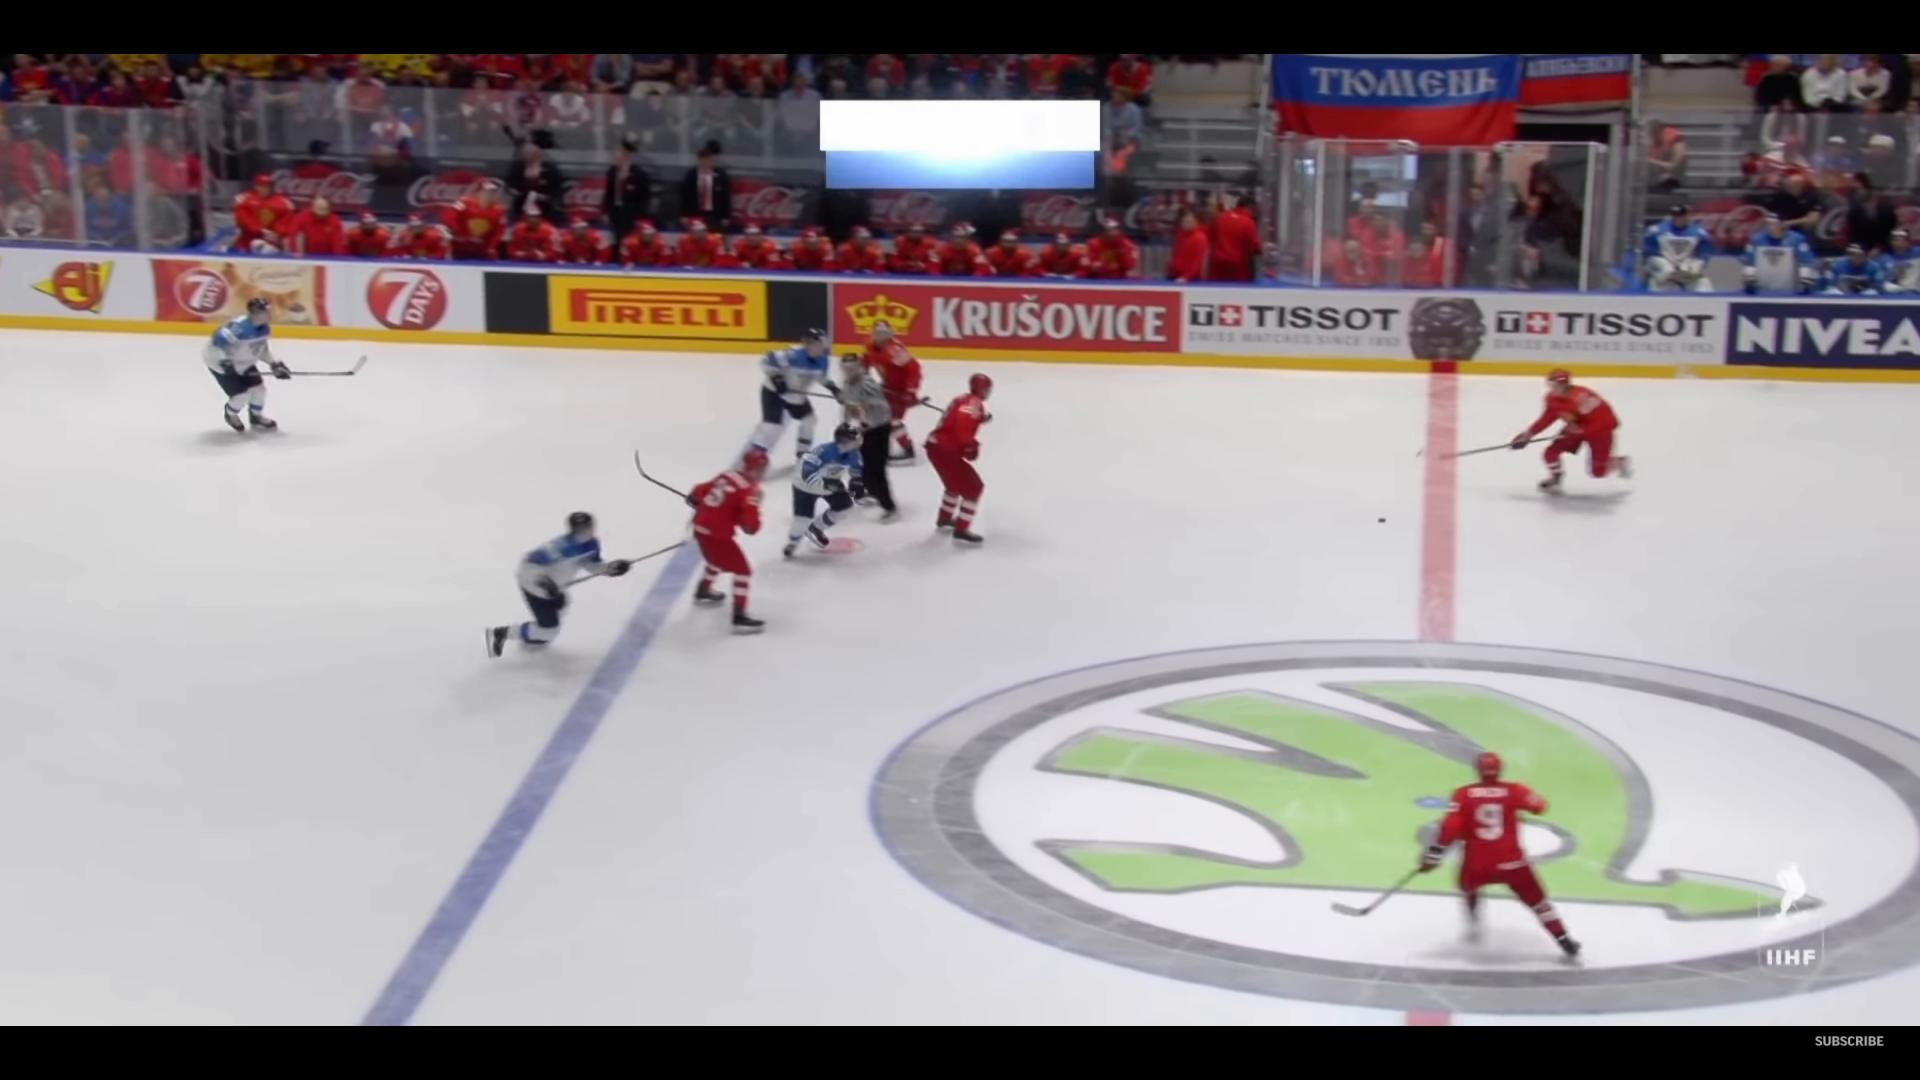puck: (1378, 517, 1386, 522)
